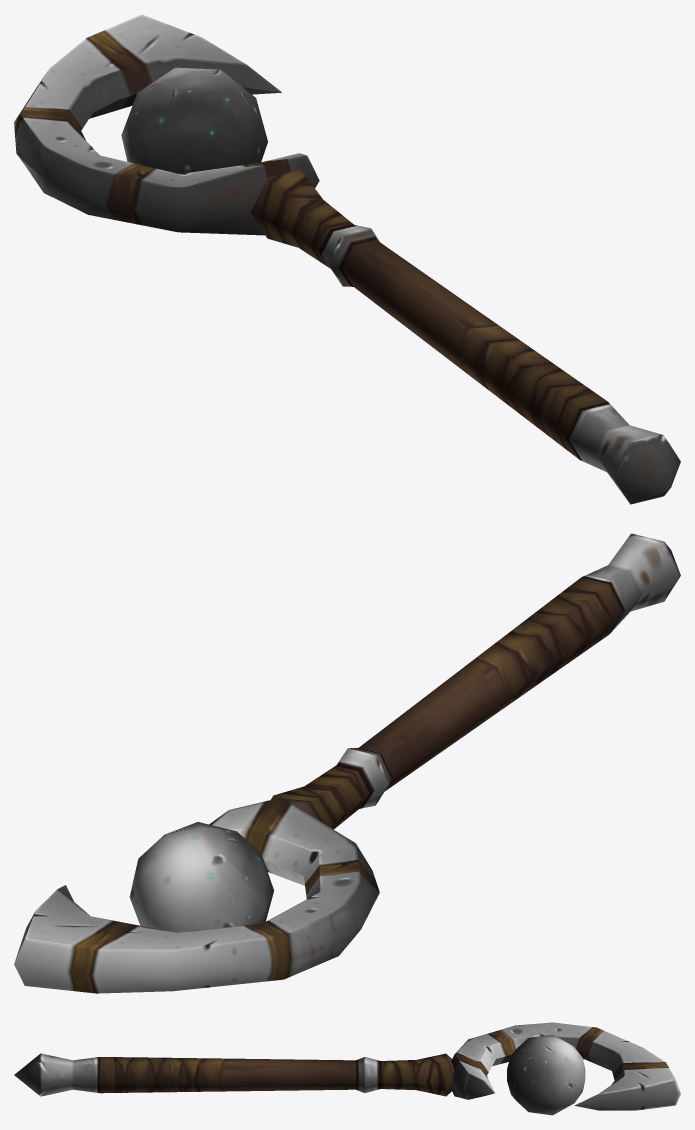
File: Wand06.fbx
3 views of the same model, one above another, from view 1: azimuth 30°, elevation 25°; view 2: azimuth 150°, elevation 25°; view 3: azimuth 270°, elevation 25° (orthographic). The views are drawn at different scales.
Parts seen in each view (by area): view 1: Wand06_el1, Wand06_el2; view 2: Wand06_el1, Wand06_el2; view 3: Wand06_el1, Wand06_el2.
Boxes of the visible parts, x1=… form: Wand06_el1: x1=14, y1=14, x2=319, y2=235; Wand06_el2: x1=250, y1=169, x2=680, y2=504; Wand06_el1: x1=14, y1=797, x2=379, y2=993; Wand06_el2: x1=271, y1=533, x2=680, y2=829; Wand06_el1: x1=451, y1=1022, x2=680, y2=1115; Wand06_el2: x1=14, y1=1053, x2=453, y2=1096.
Bounding box in the file's own units: 0.3462 × 0.1654 × 1.34.
